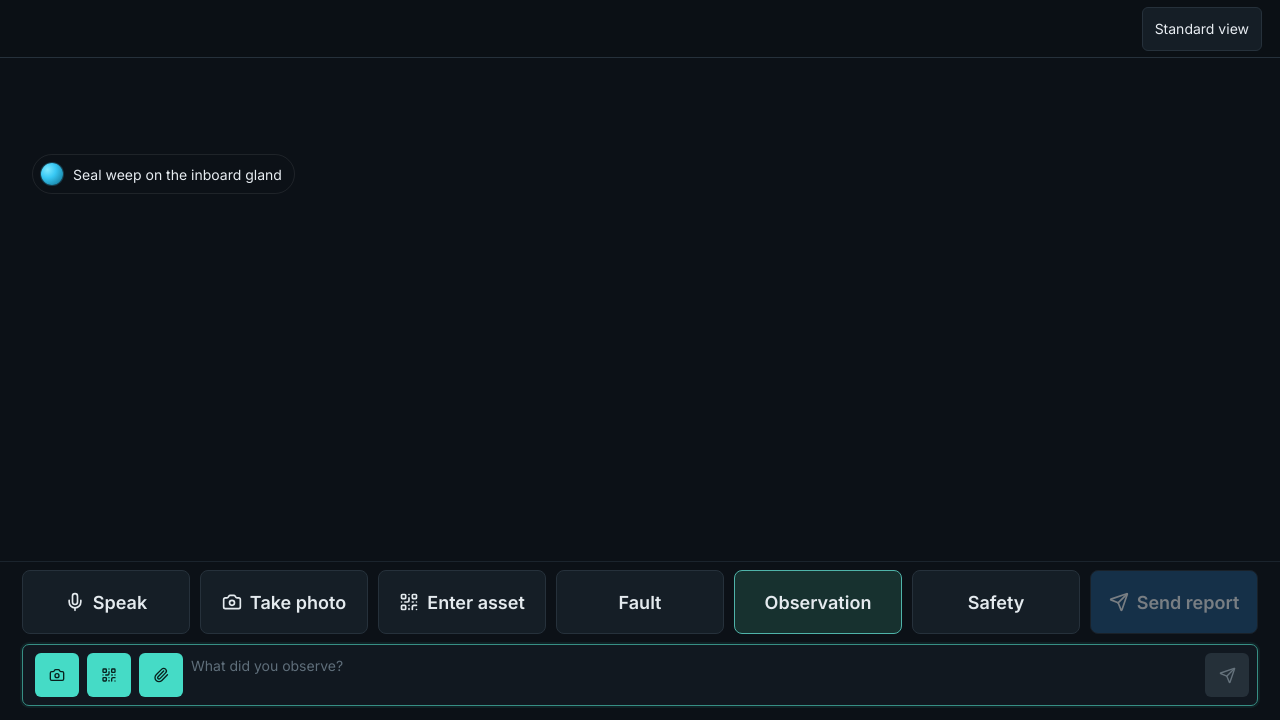
FieldPage › voice dictation fills the report and voice commands set type and send
The image size is (1280, 720).
Later steps or results of the test are not shown.
Expected: the text box with placeholder "What did you observe?" is shown, [191,655,1197,697]
Click the button "Speak": (106, 602) [22,570,190,634]
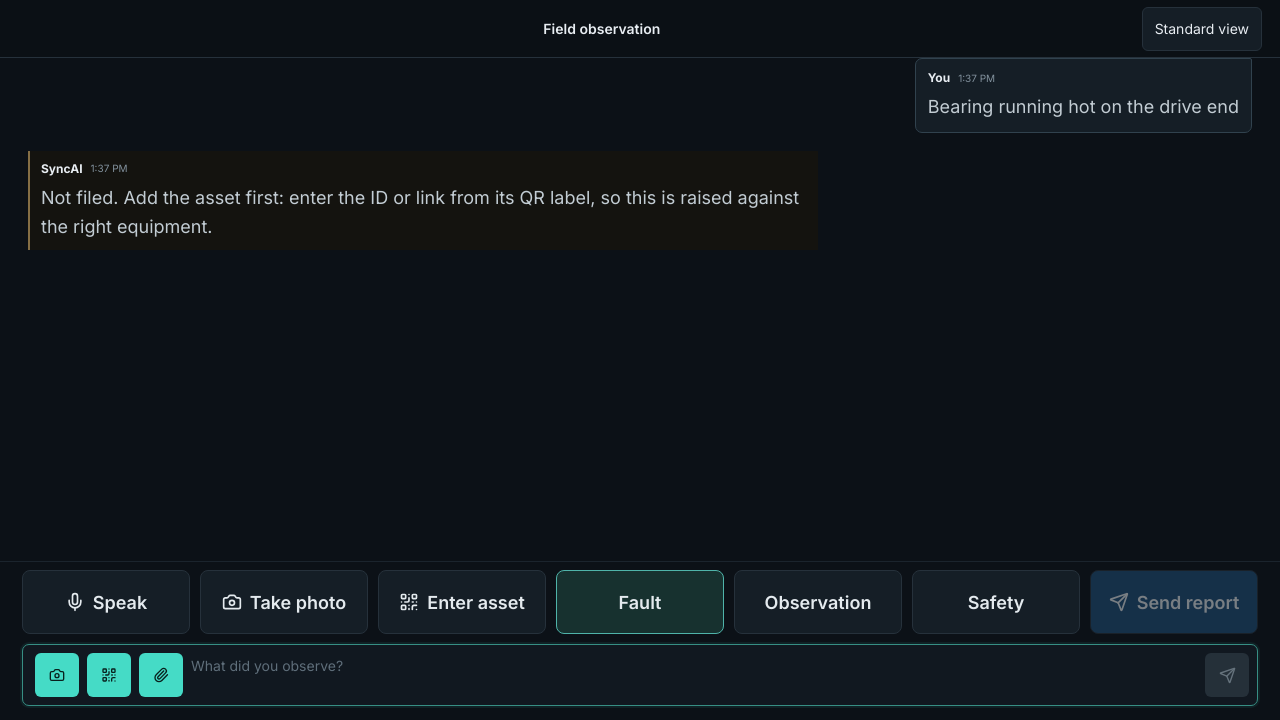
Expected: the text "Not filed. Add the asset first" is shown, [41,187,804,237]
